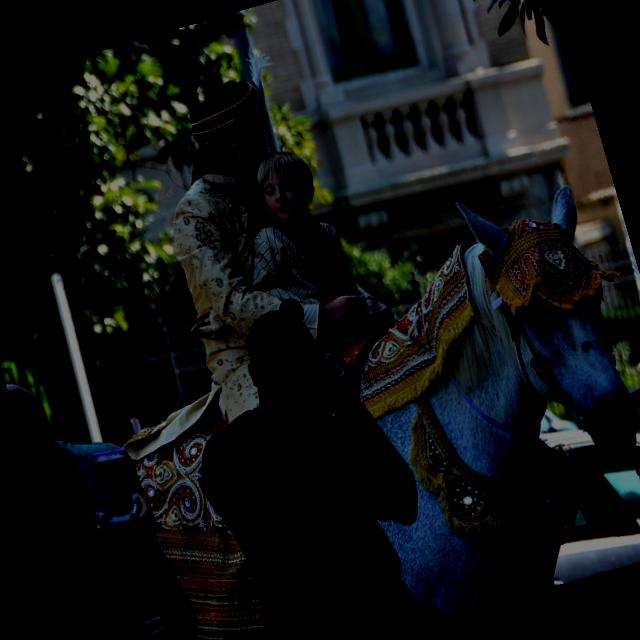Vehicle: (509, 393, 640, 586), (624, 374, 640, 452)
